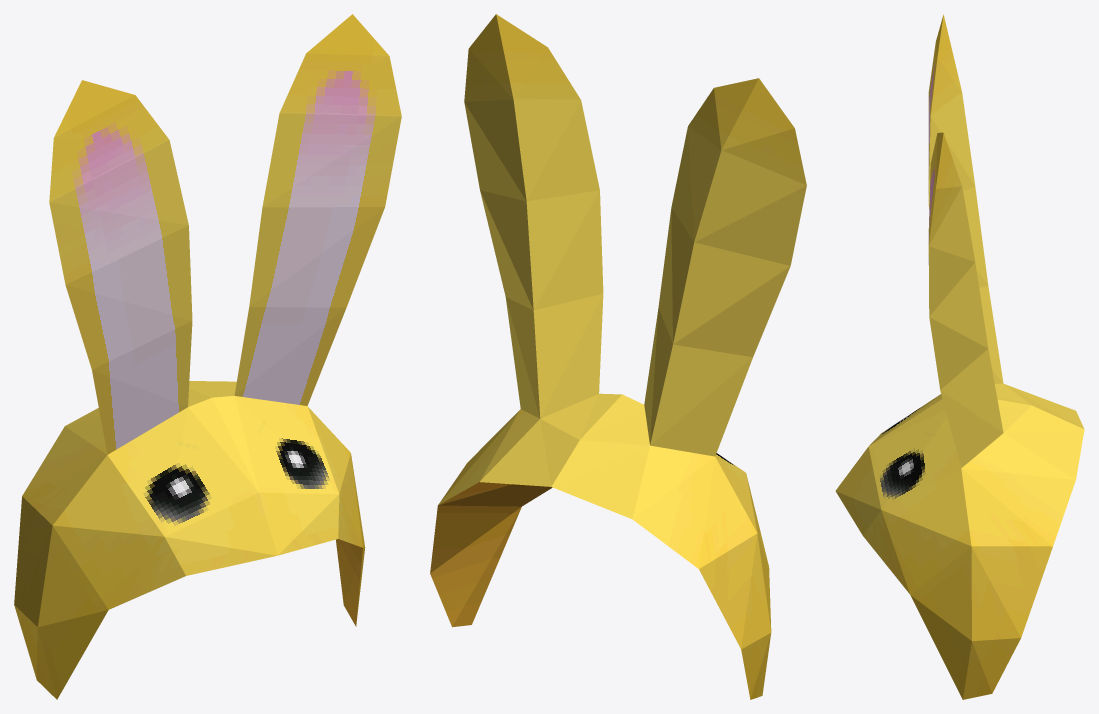
The model's file is bunny.glb.
3 views of the same model, side by side, from view 1: azimuth 30°, elevation 25°; view 2: azimuth 150°, elevation 25°; view 3: azimuth 270°, elevation 25° (orthographic). The views are drawn at different scales.
Visible parts, largest first — view 1: geometry_0; view 2: geometry_0; view 3: geometry_0.
Part boxes in pixels (x1,y1,x2,y2): geometry_0: (14, 14, 401, 699); geometry_0: (430, 14, 806, 699); geometry_0: (835, 14, 1084, 699).
Size of the model in its own units: 41.26 by 69.82 by 28.1.
Materials: 1 (1 with a texture image).
